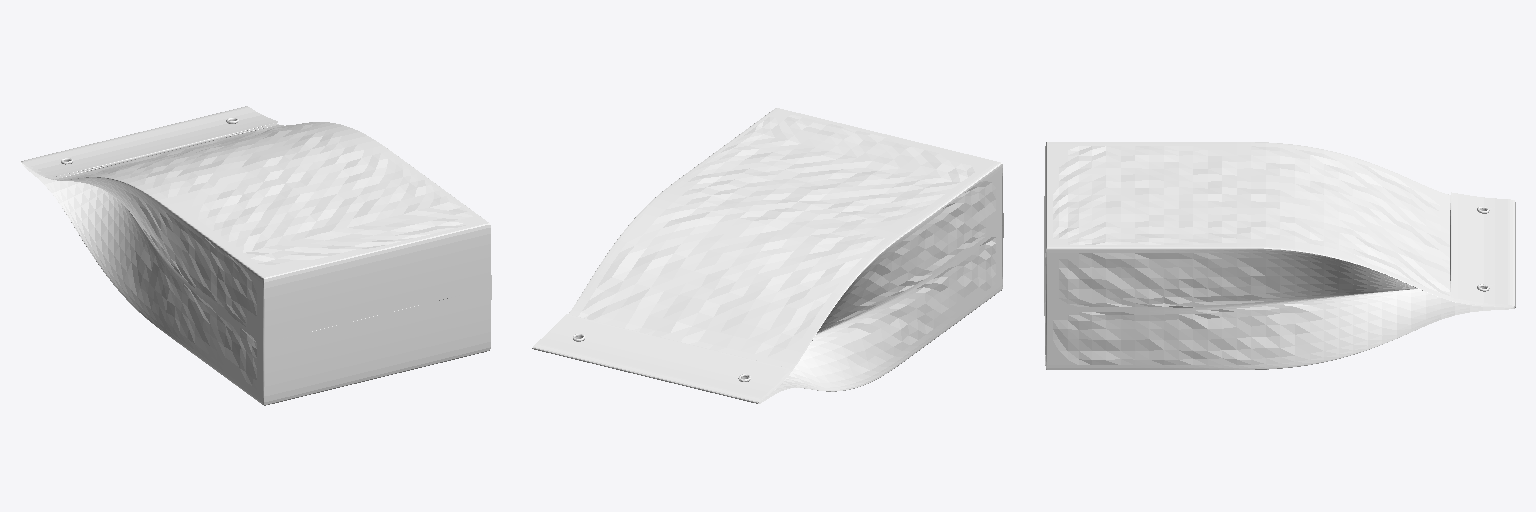
URDF robot description (model.urdf):
<robot name="model.urdf">
  <link name="baseLink">
    <contact>
      <friction_anchor/>
      <lateral_friction value="0.308"/>
      <spinning_friction value="0.001"/>
      <rolling_friction value="0.001"/>
      <contact_cfm value="0.0"/>
      <contact_erp value="1.0"/>
    </contact>
    <inertial>
       <origin rpy="0 0 0" xyz="0.0 0.0 0.0"/>
       <mass value=".0069"/>
       <inertia ixx="1e-3" ixy="0" ixz="0" iyy="1e-3" iyz="0" izz="1e-3"/>
    </inertial>
    <visual>
      <geometry>
        <mesh filename="cookies.obj" scale="1 1 1"/>
      </geometry>
      <material name="white">
        <color rgba="1 1 1 1"/>
      </material>
    </visual>
    <collision>
      <geometry>
        <mesh filename="cookies.obj" scale="1 1 1"/>
      </geometry>
    </collision>
  </link>
</robot>

--- Facts derived from the render (not from the file) ---
The picture shows the robot from 3 angles, left to right: view 1: azimuth 30°, elevation 25°; view 2: azimuth 150°, elevation 25°; view 3: azimuth 270°, elevation 25°; orthographic projection.
Model model.urdf with 1 links and 0 joints (none), rooted at baseLink, posed all joints at 0.
Visible links, largest first — view 1: baseLink; view 2: baseLink; view 3: baseLink.
Boxes of the visible links, x1,y1,x2,y2 form: baseLink: (21,106,491,405); baseLink: (532,108,1003,403); baseLink: (1044,142,1515,369).
Size in the robot's own frame: 0.131 by 0.2427 by 0.071 metres.
Meshes: 1 distinct files referenced, 1 mesh visuals loaded (1 OBJ).